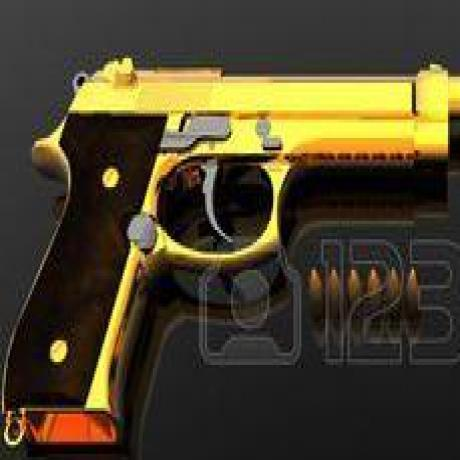weapon: (4, 53, 460, 444)
